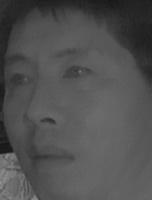eye: (57, 63, 99, 84), (2, 72, 32, 91)
mouth: (22, 141, 77, 174)
